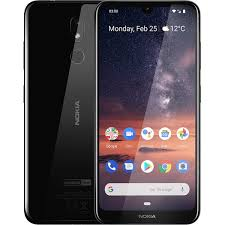nokia: (95, 1, 200, 223), (22, 1, 95, 225)
